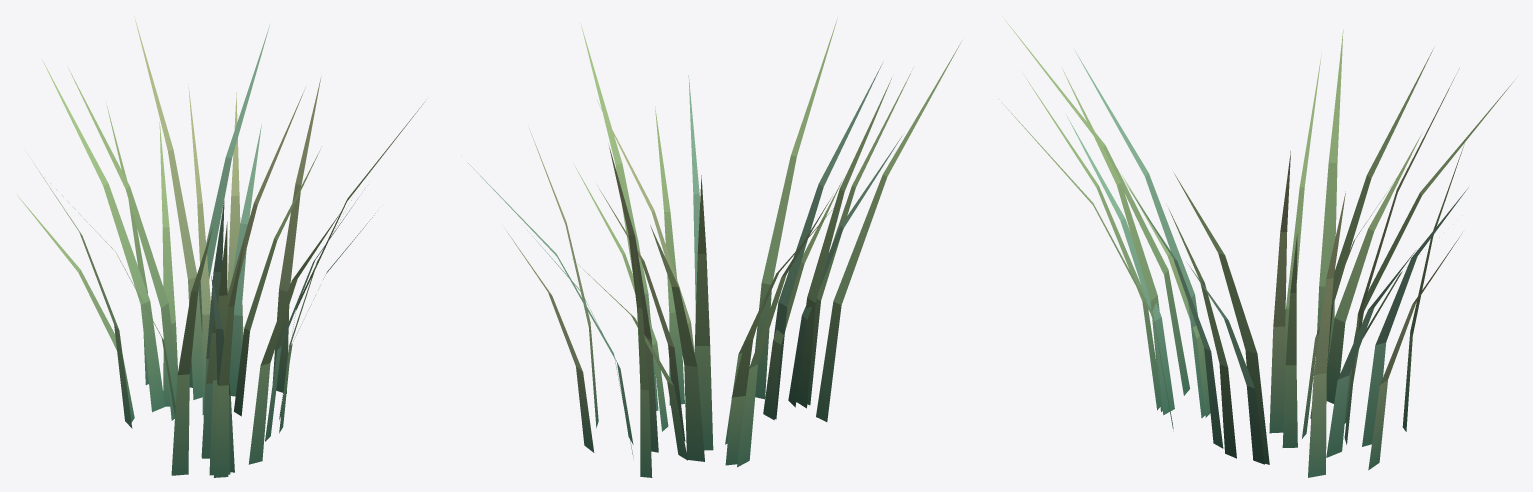
File: SM_GR_GrassTall.fbx
3 renders of one model, left to right at view 1: azimuth 30°, elevation 25°; view 2: azimuth 150°, elevation 25°; view 3: azimuth 270°, elevation 25°, orthographic. The views are drawn at different scales.
Visible parts, largest first — view 1: SM_GR_GrassTall; view 2: SM_GR_GrassTall; view 3: SM_GR_GrassTall.
Boxes of the visible parts, <box> form: SM_GR_GrassTall: <box>17,16,426,477</box>; SM_GR_GrassTall: <box>467,18,962,477</box>; SM_GR_GrassTall: <box>999,17,1515,477</box>.
Size of the model in its own units: 98.61 by 98.9 by 127.
